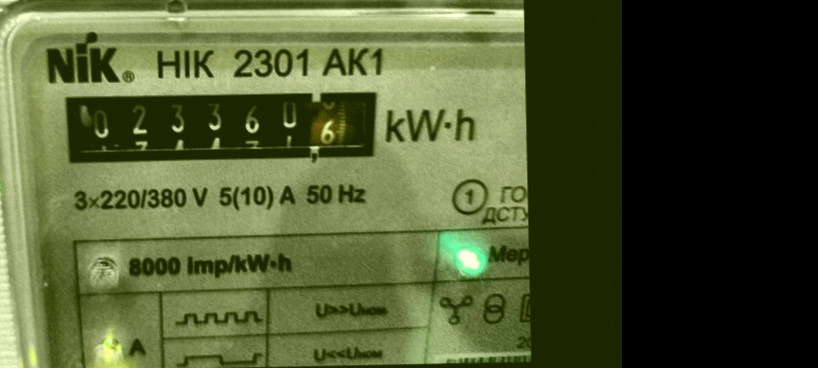0: (89, 105, 110, 138), (280, 97, 297, 128)
2: (127, 101, 150, 135)
3: (165, 100, 186, 133), (204, 98, 223, 130)
6: (240, 101, 260, 133), (315, 114, 337, 143)
screen: (46, 72, 390, 177)
